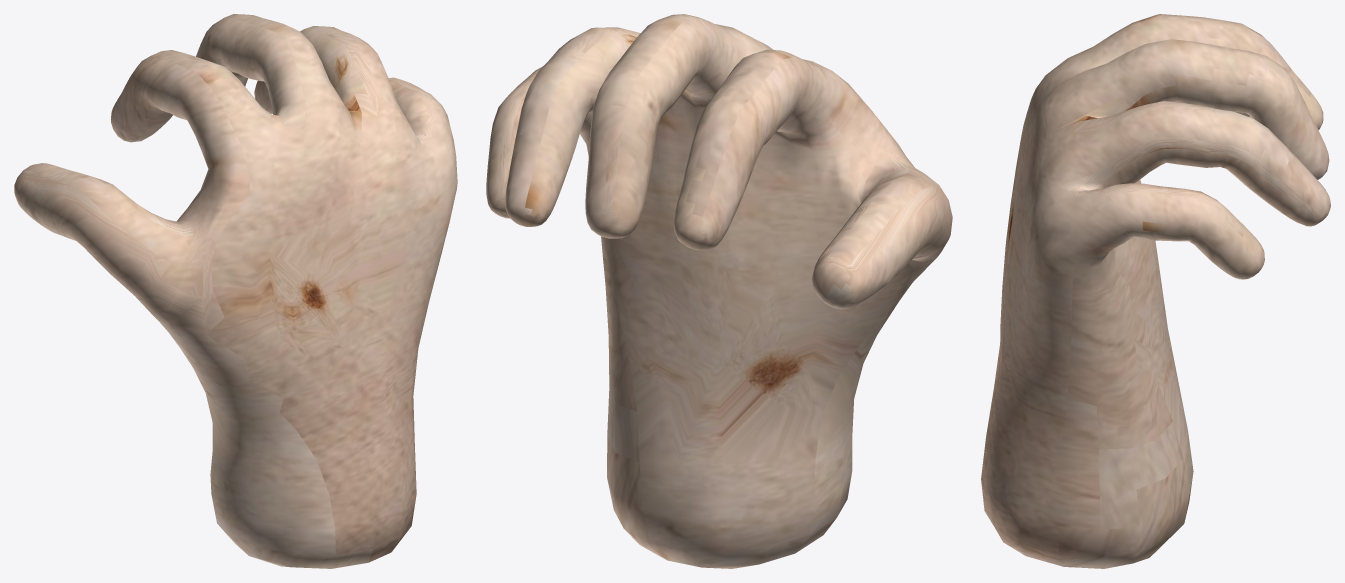
The model's file is hand14.obj.
3 views of the same model, side by side, from view 1: azimuth 30°, elevation 25°; view 2: azimuth 150°, elevation 25°; view 3: azimuth 270°, elevation 25° (orthographic). The views are drawn at different scales.
Parts seen in each view (by area): view 1: Cube.001; view 2: Cube.001; view 3: Cube.001.
Boxes of the visible parts, x1,y1,x2,y2 form: Cube.001: (14,14,457,568); Cube.001: (486,14,952,568); Cube.001: (981,14,1330,568).
Size of the model in its own units: 3.62 by 4.67 by 2.9.
